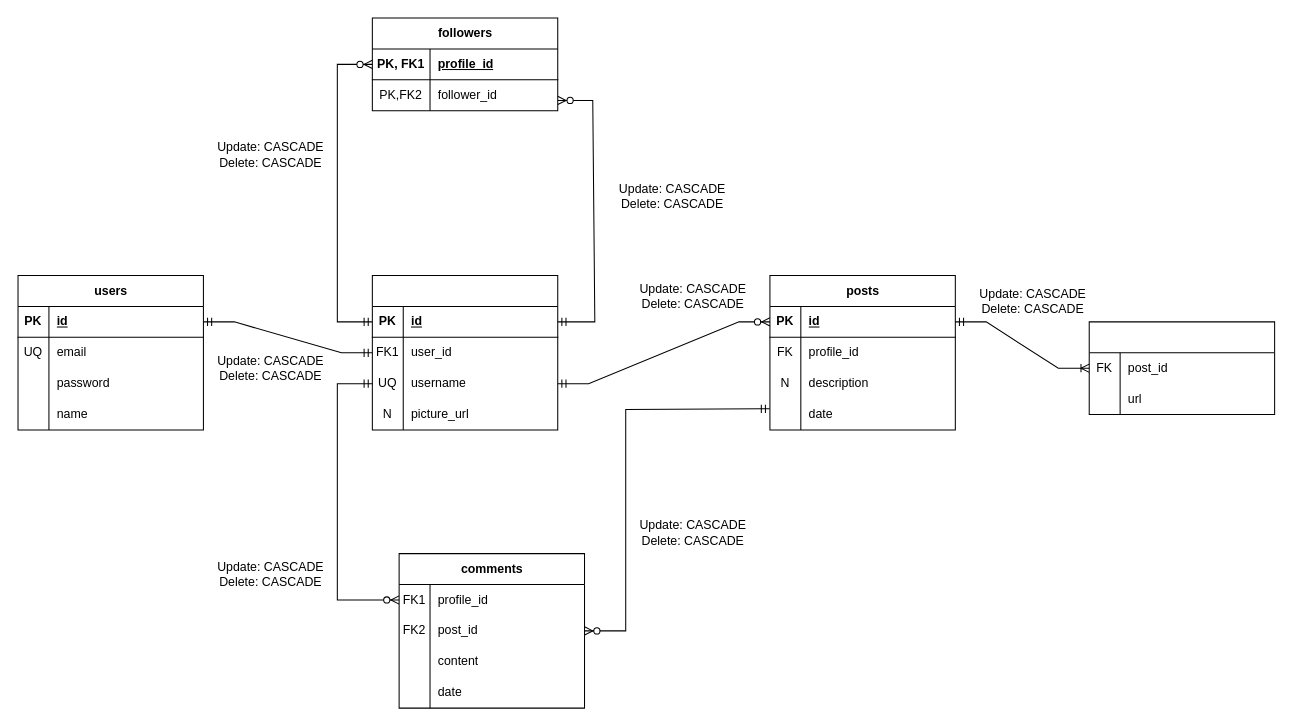
Image size: 1293x726. Some labels were removed from this diagram. Each missing label, with the box of its shape:
images: (1088, 321, 1275, 415)
profiles: (371, 274, 558, 430)
